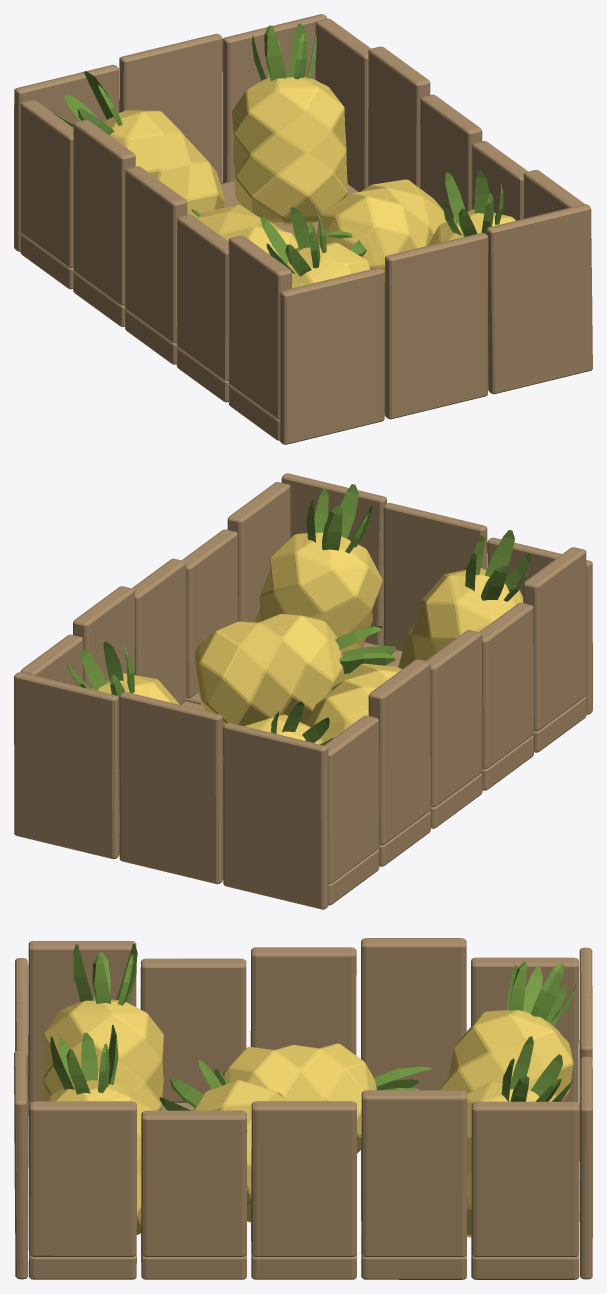
The model's file is PineApple.fbx.
3 renders of one model, top to bottom at view 1: azimuth 30°, elevation 25°; view 2: azimuth 150°, elevation 25°; view 3: azimuth 270°, elevation 25°, orthographic. The views are drawn at different scales.
Parts seen in each view (by area): view 1: Cylinder.009; view 2: Cylinder.009; view 3: Cylinder.009.
Boxes of the visible parts, <box> form: Cylinder.009: <box>14,14,592,444</box>; Cylinder.009: <box>14,473,592,909</box>; Cylinder.009: <box>14,938,592,1279</box>.
Bounding box in the file's own units: 160 × 93.77 × 241.
